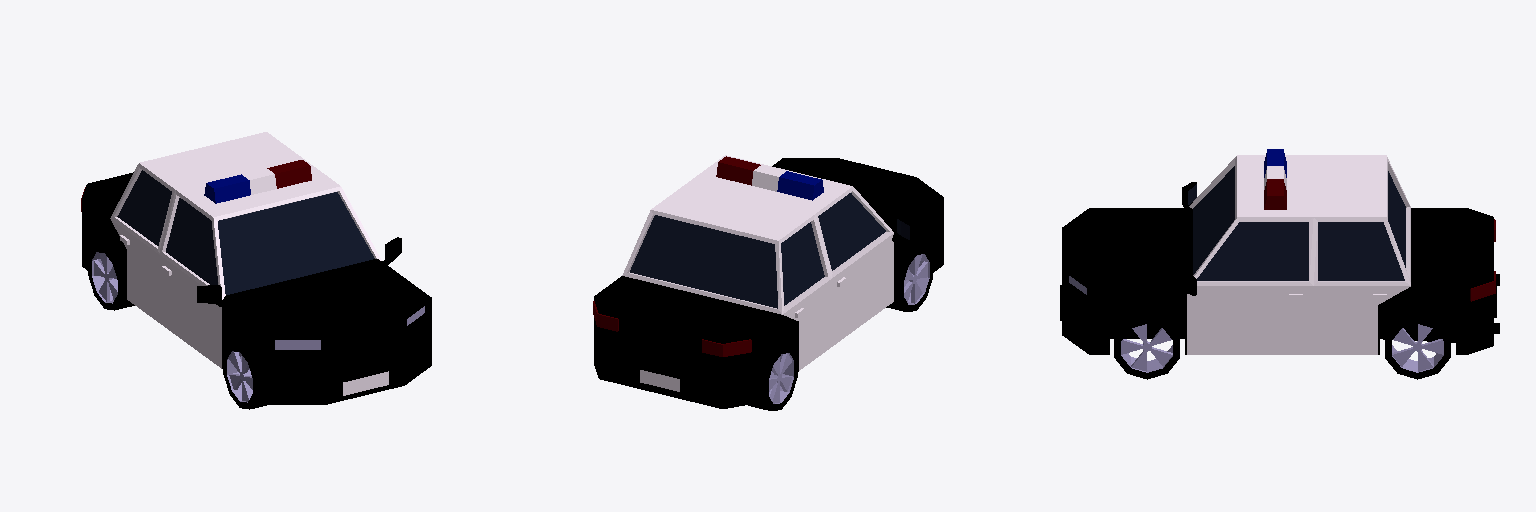
File: police_car.obj
The picture shows the model from 3 angles: view 1: azimuth 30°, elevation 25°; view 2: azimuth 150°, elevation 25°; view 3: azimuth 270°, elevation 25°; orthographic projection.
Visible parts, largest first — view 1: Police_Sedan, Police_Sedan_wheel_front_right, Police_Sedan_wheel_rear_right; view 2: Police_Sedan, Police_Sedan_wheel_rear_right, Police_Sedan_wheel_front_right; view 3: Police_Sedan, Police_Sedan_wheel_rear_left, Police_Sedan_wheel_front_left.
Part boxes in pixels (x1,y1,x2,y2): Police_Sedan: (81, 132, 431, 404); Police_Sedan_wheel_front_right: (223, 341, 269, 409); Police_Sedan_wheel_rear_right: (88, 242, 134, 310); Police_Sedan: (593, 155, 943, 408); Police_Sedan_wheel_rear_right: (748, 343, 797, 410); Police_Sedan_wheel_front_right: (886, 244, 932, 311); Police_Sedan: (1060, 149, 1499, 354); Police_Sedan_wheel_rear_left: (1385, 311, 1450, 379); Police_Sedan_wheel_front_left: (1114, 311, 1179, 379).
Size of the model in its own units: 2.81 by 2.19 by 5.23.